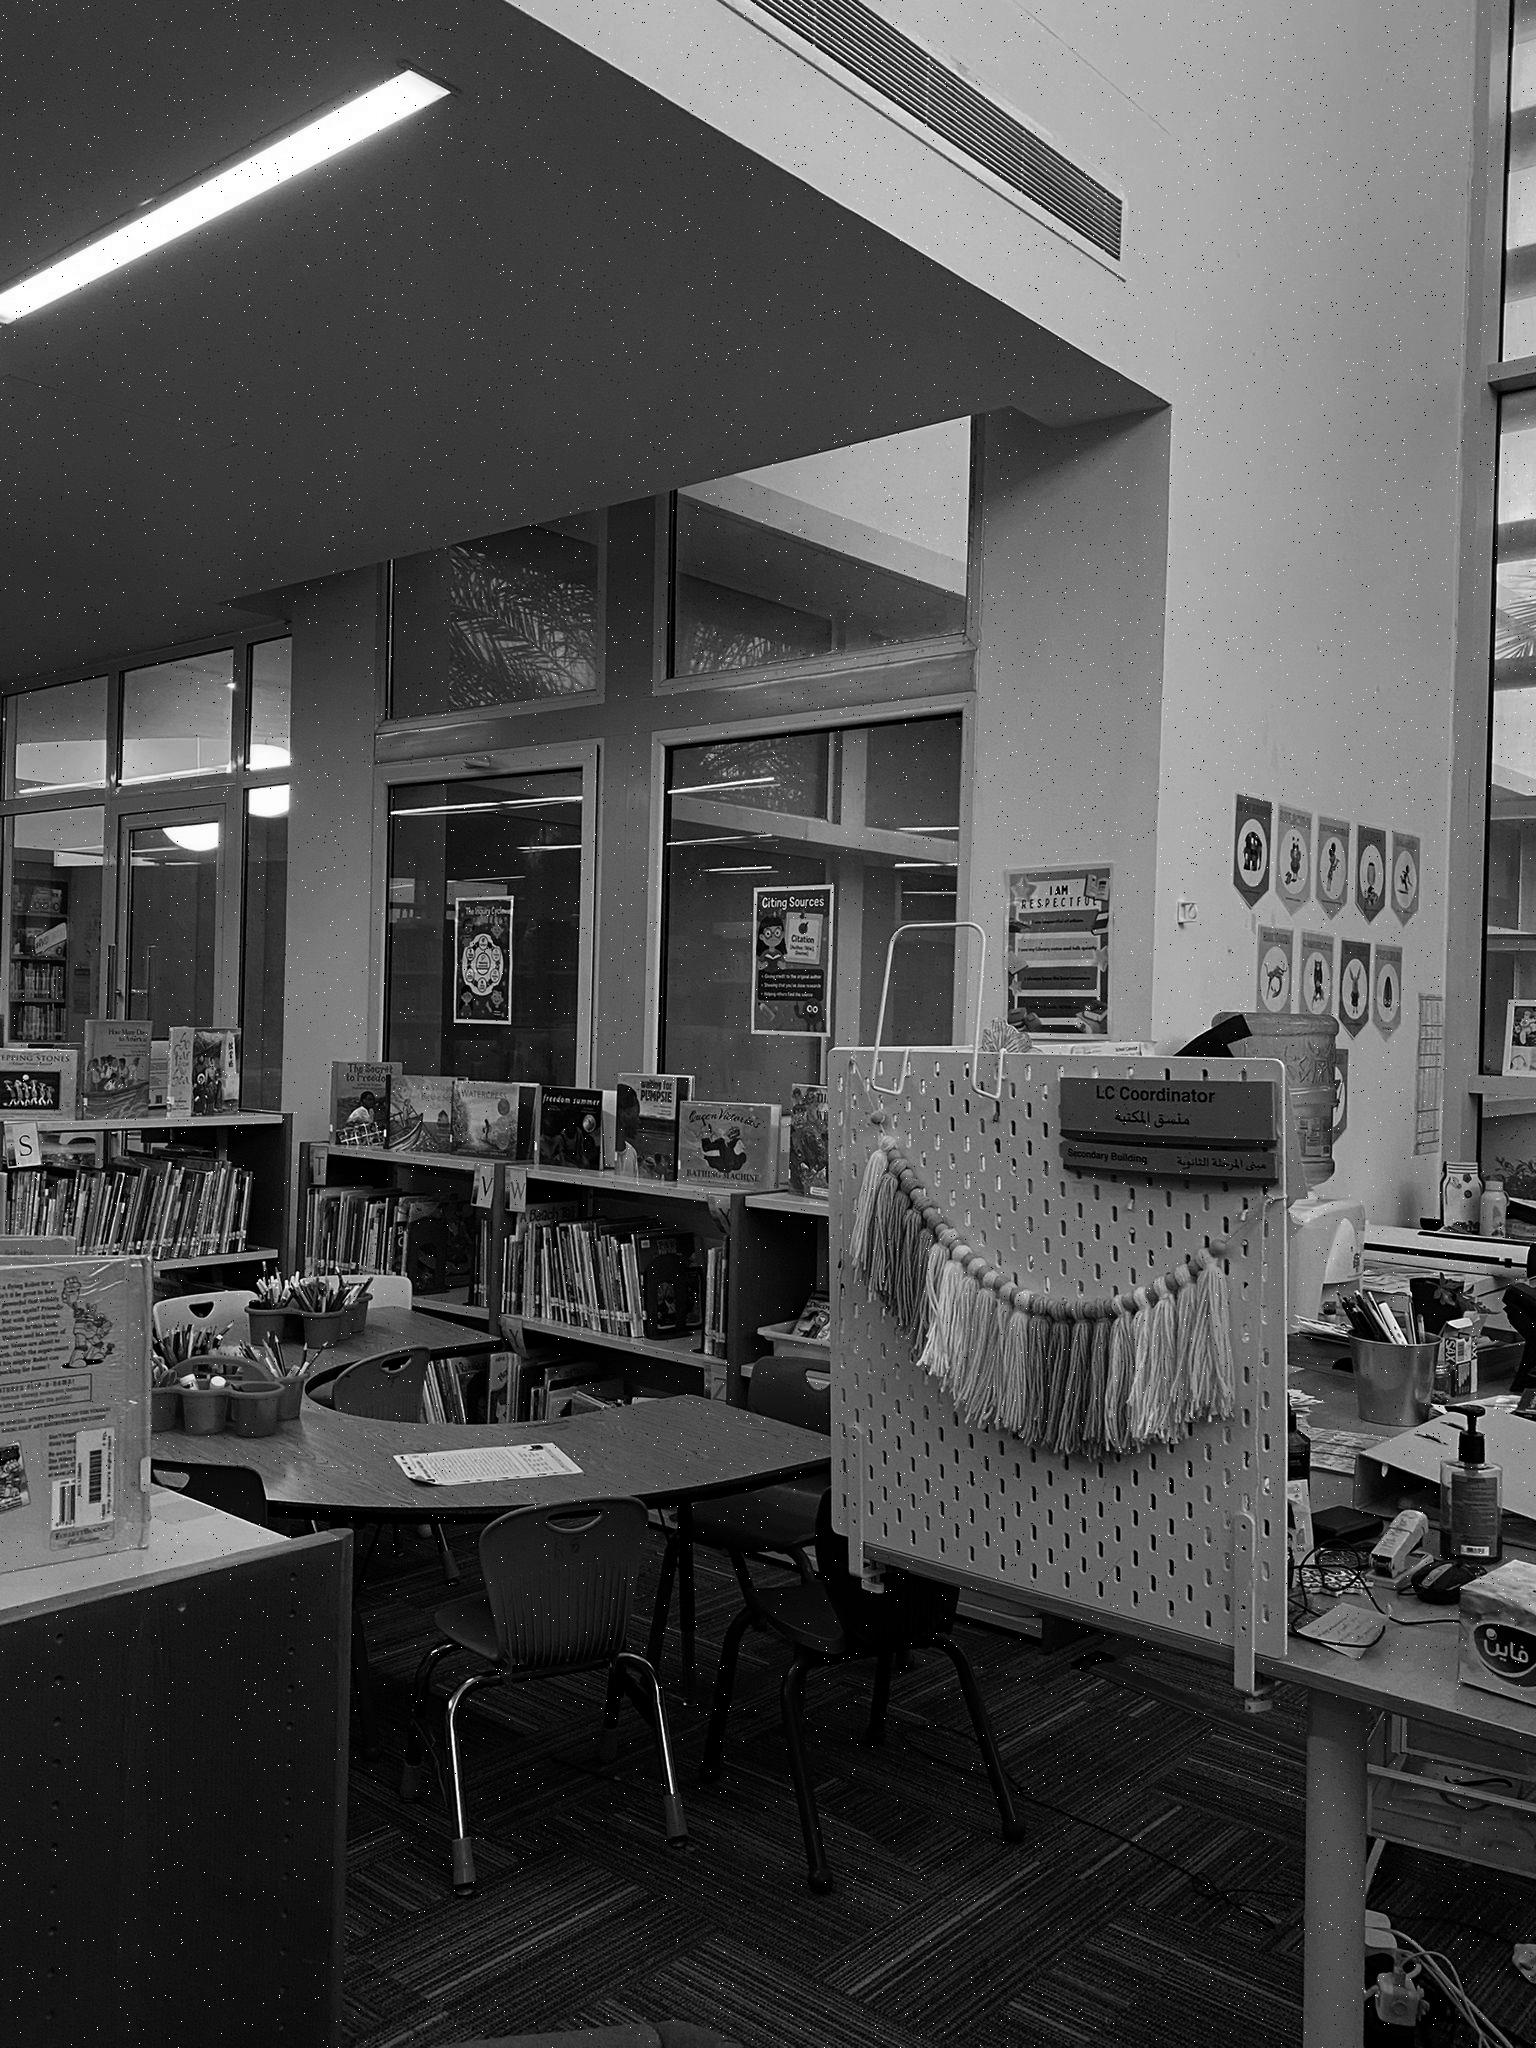Chair: (699, 1488, 1026, 1892), (402, 1496, 686, 1895)
Table: (153, 1395, 829, 1526)
Wall: (541, 0, 1488, 1042)
